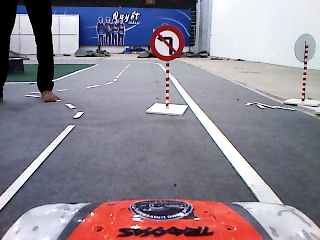ban: (149, 24, 185, 61)
